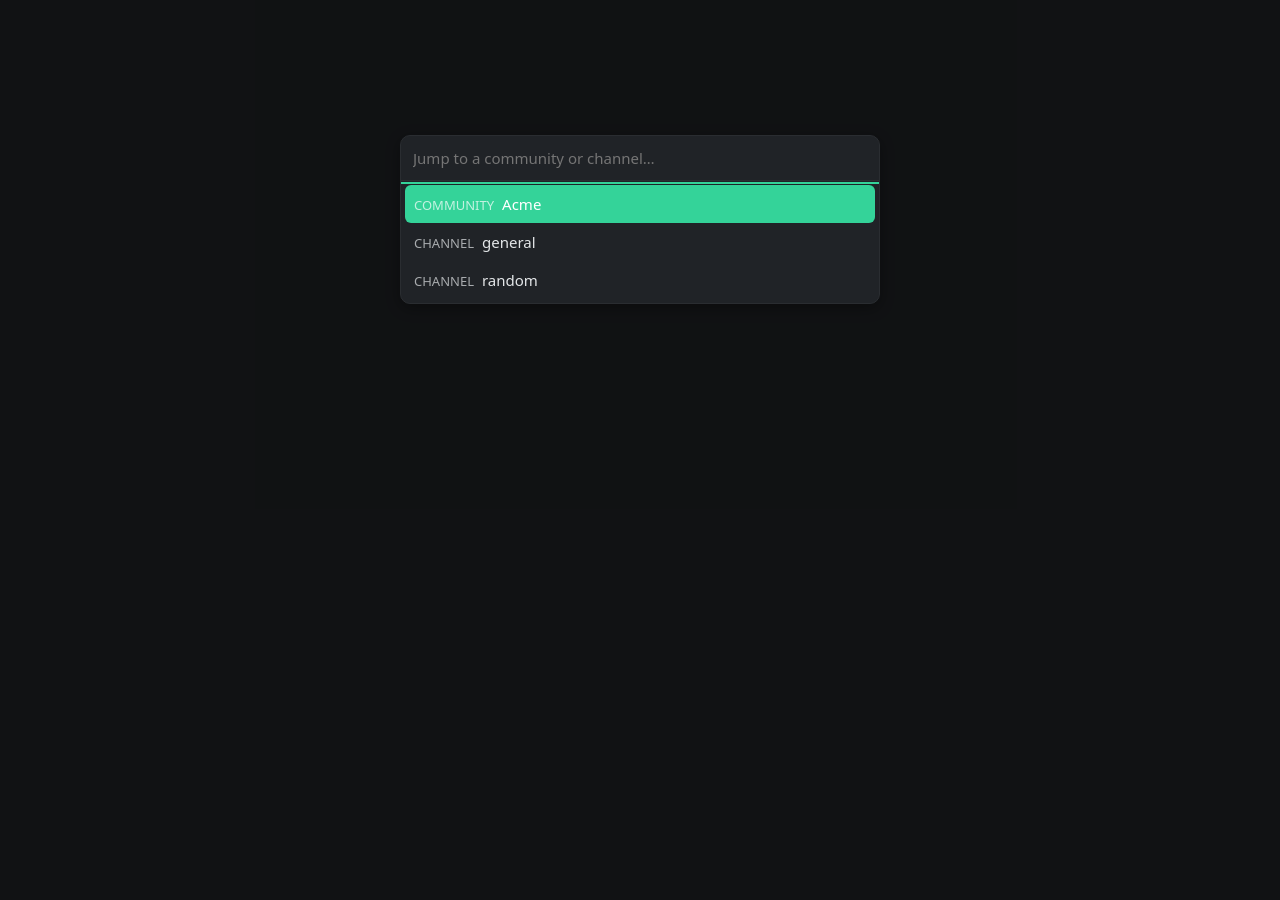
QuickSwitcher › shows a no-matches message when nothing matches the query
The width and height of the screenshot is (1280, 900).
Type "nope" into the field at point(640, 158), box [401,136,879,181]
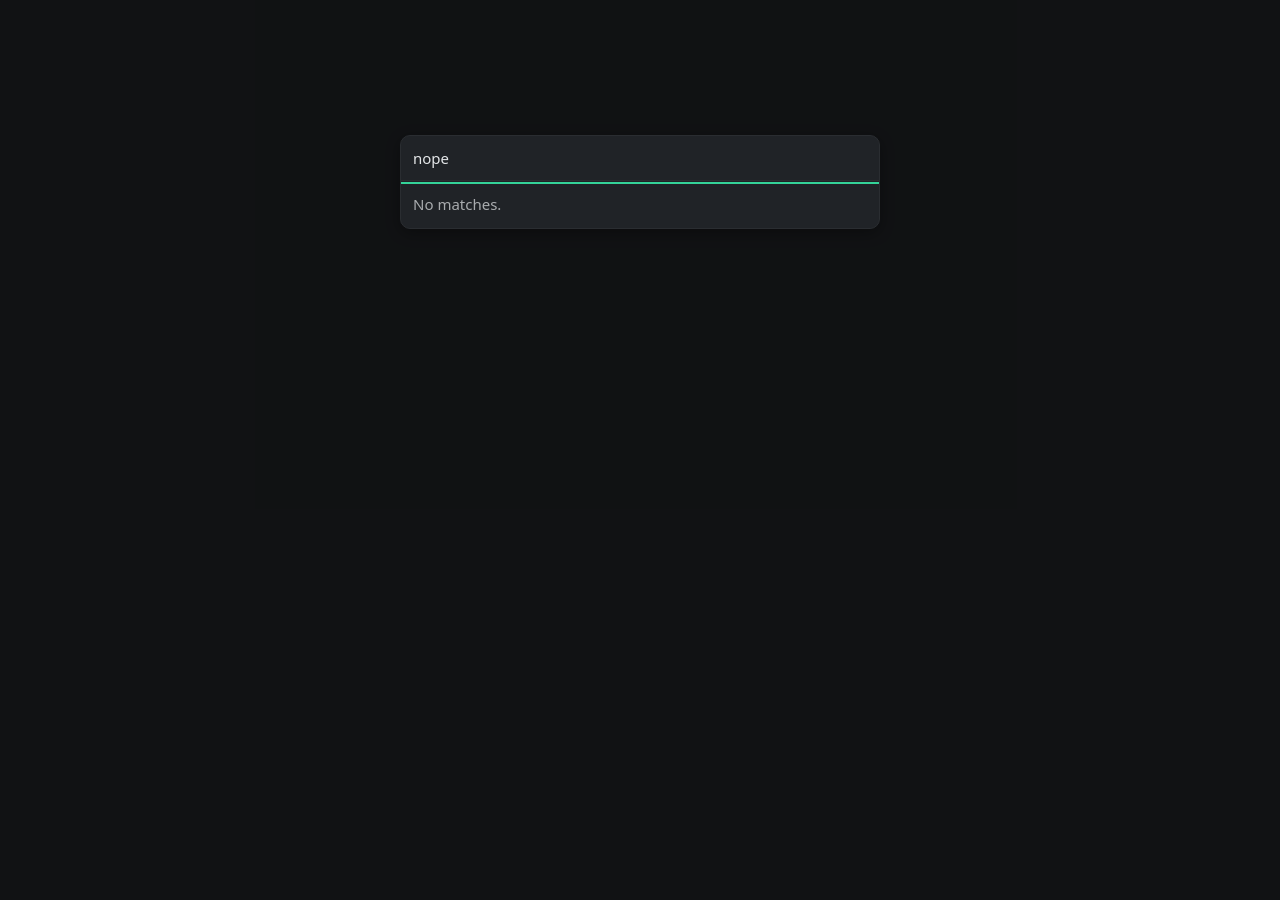
Now the list item "No matches." is shown, box [413,194,501,214]
